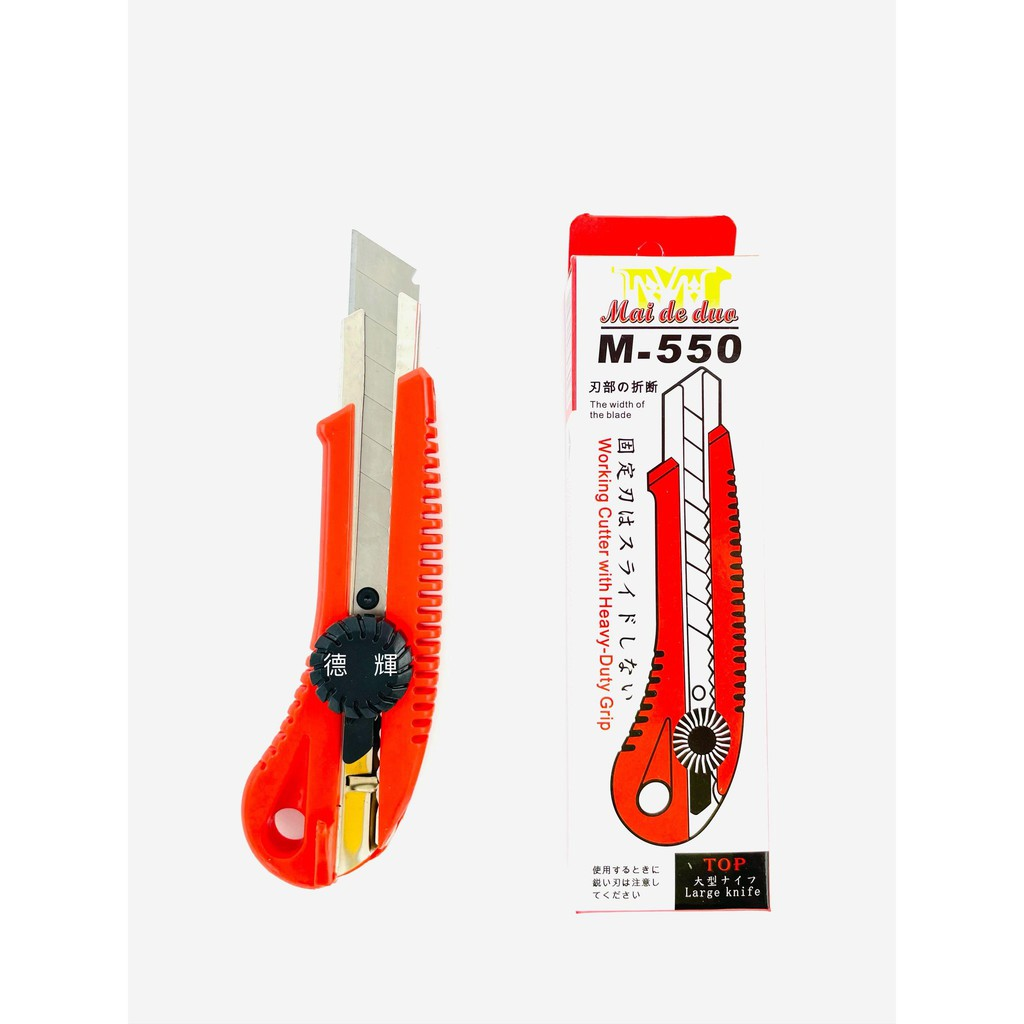cutter: (240, 227, 443, 890), (606, 370, 745, 842)
